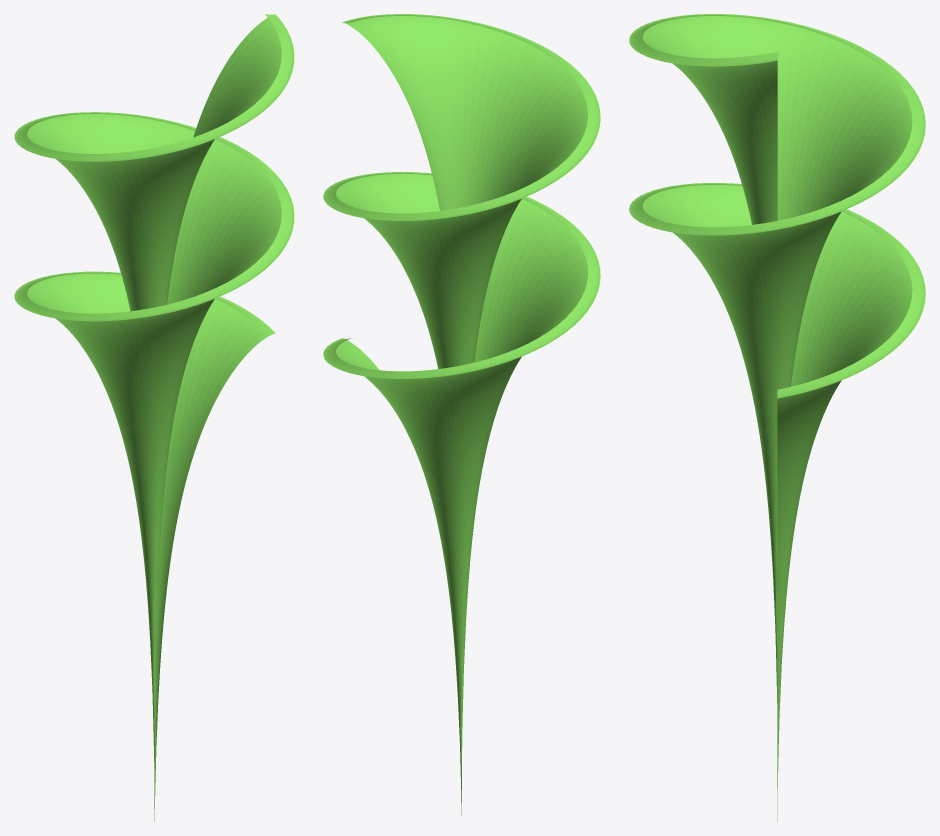
Rendered from var_4.glb.
3 views of the same model, side by side, from view 1: azimuth 30°, elevation 25°; view 2: azimuth 150°, elevation 25°; view 3: azimuth 270°, elevation 25° (orthographic). The views are drawn at different scales.
Visible parts, largest first — view 1: XYZ Function.003; view 2: XYZ Function.003; view 3: XYZ Function.003.
Part boxes in pixels (box(x1,y1,x2,y2)): XYZ Function.003: box(14, 14, 294, 821); XYZ Function.003: box(323, 14, 600, 815); XYZ Function.003: box(629, 14, 925, 821).
Size of the model in its own units: 1.11 by 3.41 by 1.11.
